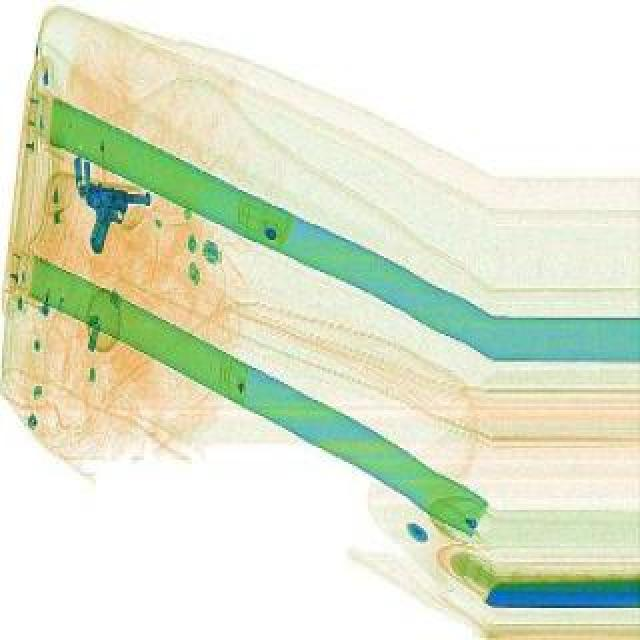gun: (72, 180, 150, 250)
